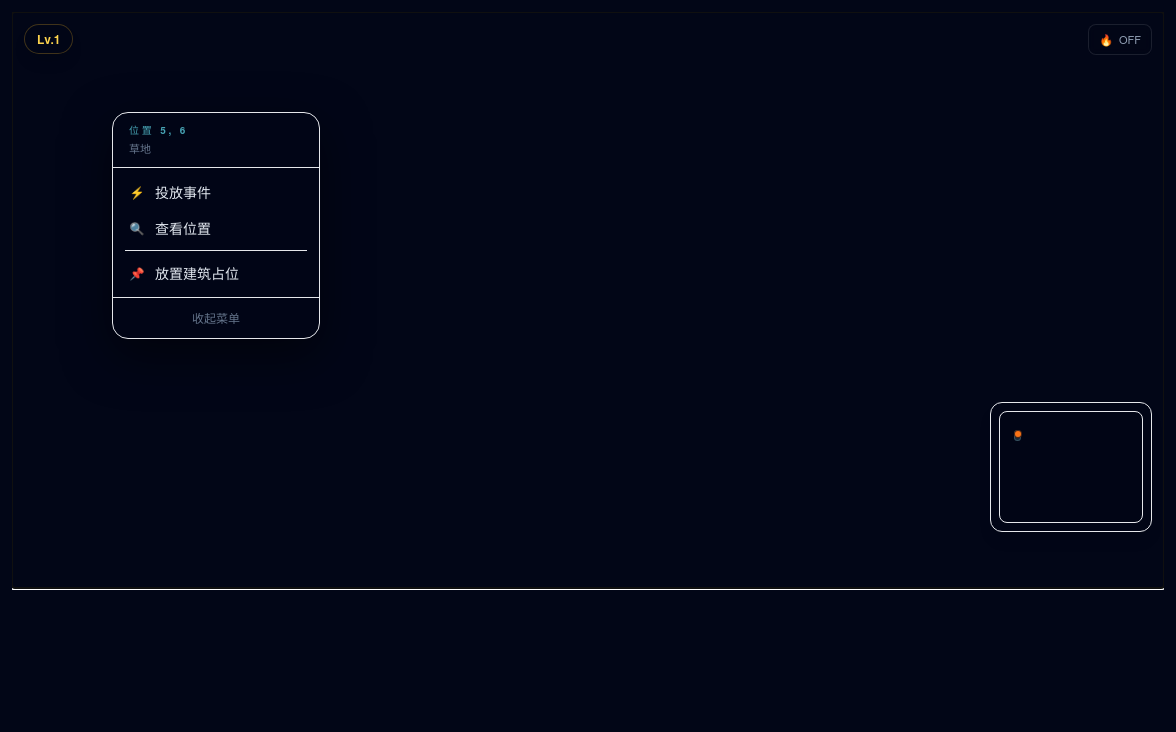
TownCanvas › recognizes a click inside a building footprint when inspecting a tile
Step 1. Click the button "🔍 查看位置" → (216, 228), box [113,210,319,246]
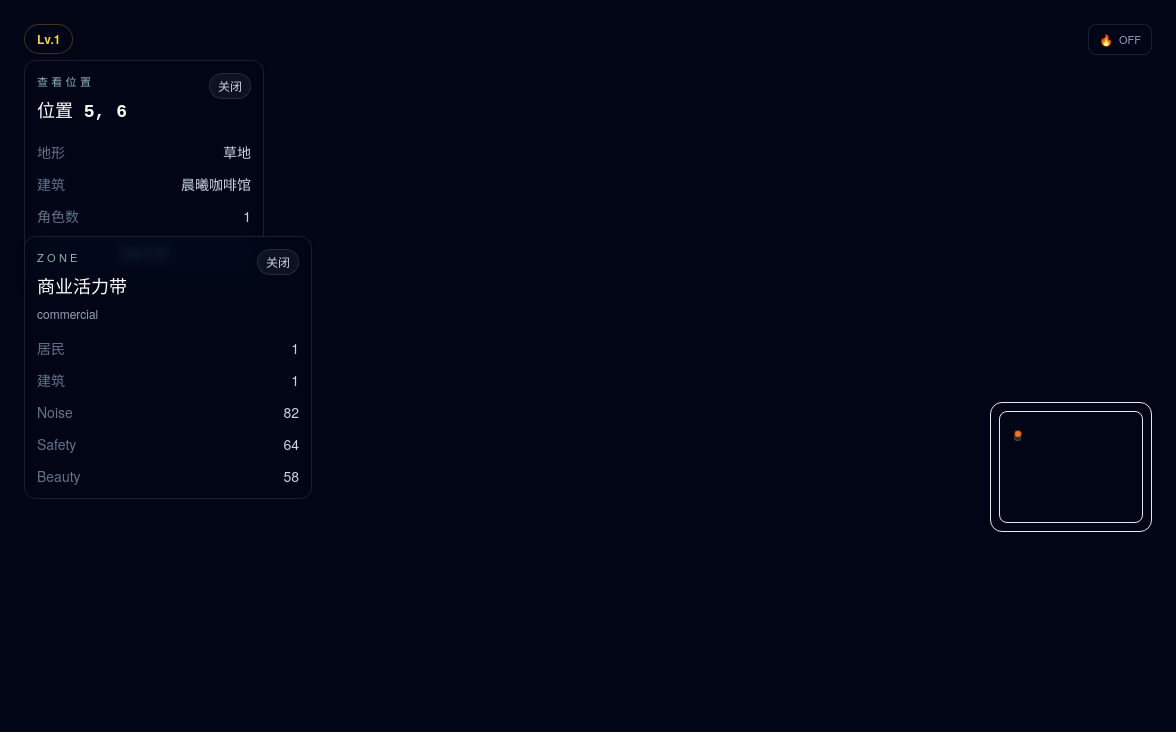
Result: the element with test id "town-inspection" shows "晨曦咖啡馆" at [181,174,251,194]
